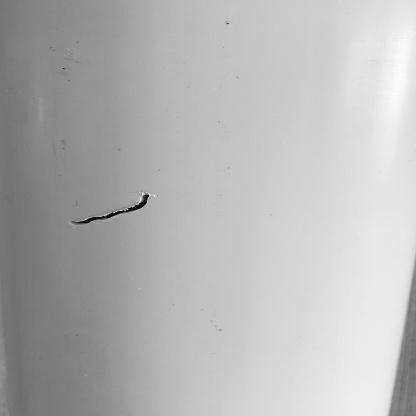fengxi: (69, 193, 151, 226)
